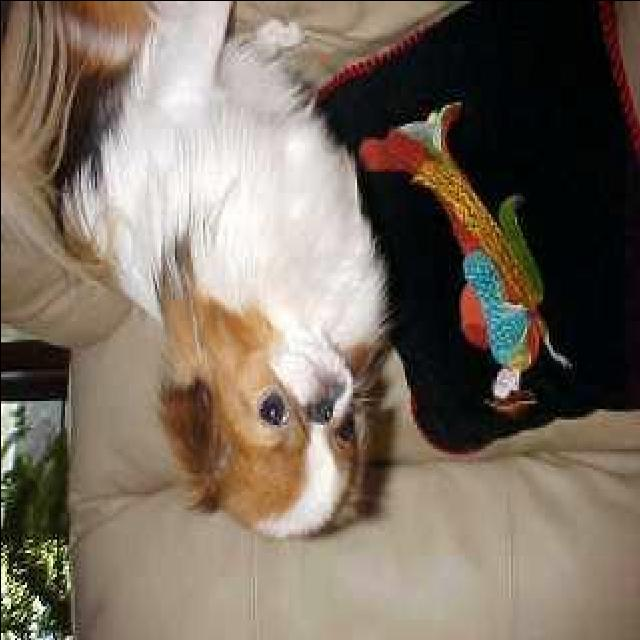husky: (42, 3, 408, 573)
